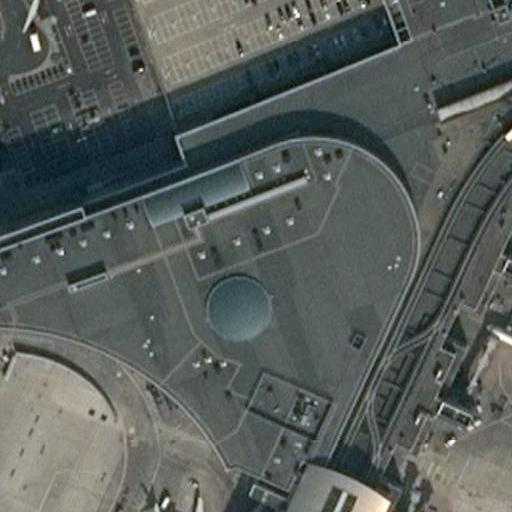Aircraft: (489, 308, 512, 405), (145, 496, 234, 512)
